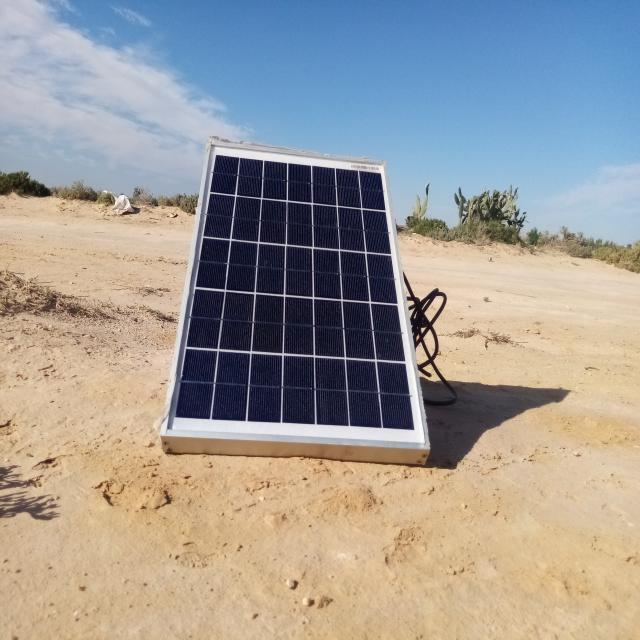Normal Solar Panel: (168, 139, 428, 443)
